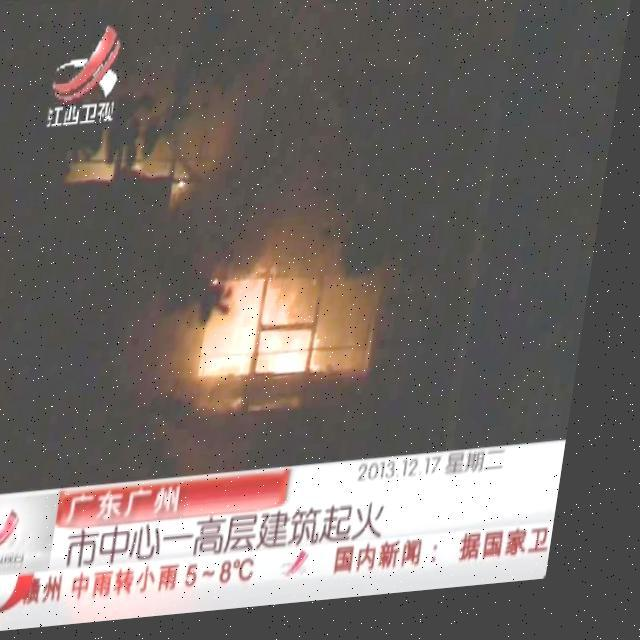Fire: (204, 268, 348, 398)
